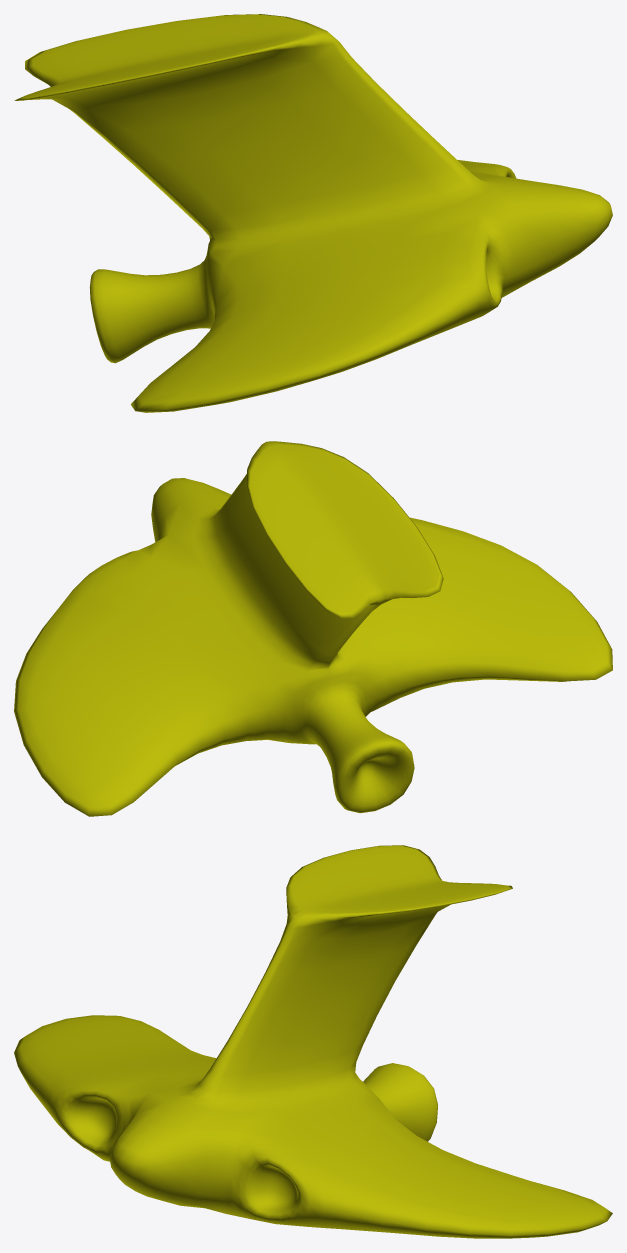
3 views of the same model, one above another, from view 1: azimuth 30°, elevation 25°; view 2: azimuth 150°, elevation 25°; view 3: azimuth 270°, elevation 25° (orthographic). The views are drawn at different scales.
Parts seen in each view (by area): view 1: Brooke_Modeling_Ckpt_01:SpaceShip_0001:pCube1; view 2: Brooke_Modeling_Ckpt_01:SpaceShip_0001:pCube1; view 3: Brooke_Modeling_Ckpt_01:SpaceShip_0001:pCube1.
Boxes of the visible parts, left/top/right/bottom form: Brooke_Modeling_Ckpt_01:SpaceShip_0001:pCube1: left=14, top=14, right=612, bottom=412; Brooke_Modeling_Ckpt_01:SpaceShip_0001:pCube1: left=14, top=441, right=612, bottom=816; Brooke_Modeling_Ckpt_01:SpaceShip_0001:pCube1: left=14, top=845, right=612, bottom=1238.
Bounding box in the file's own units: 9.34 × 6 × 10.32.
